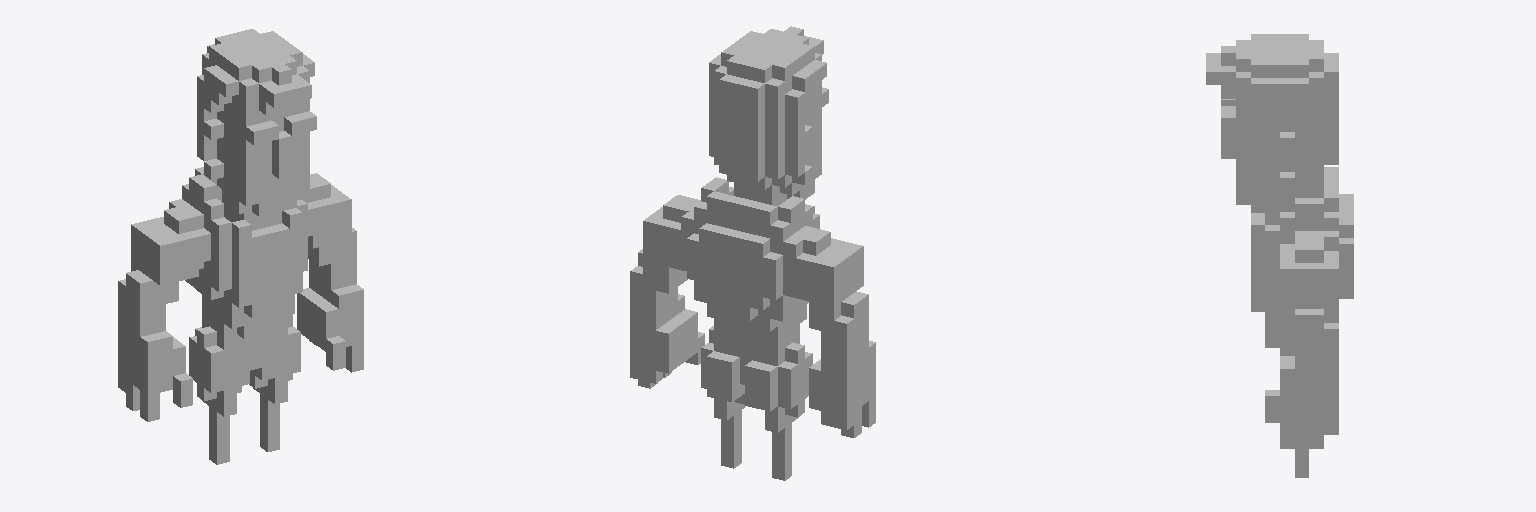
The model's file is knight.obj.
3 renders of one model, left to right at view 1: azimuth 30°, elevation 25°; view 2: azimuth 150°, elevation 25°; view 3: azimuth 270°, elevation 25°, orthographic.
Visible parts, largest first — view 1: object 1; view 2: object 1; view 3: object 1.
Part boxes in pixels (left/top/right/bottom): object 1: left=118, top=29, right=363, bottom=464; object 1: left=630, top=26, right=875, bottom=480; object 1: left=1206, top=34, right=1353, bottom=477.
Size of the model in its own units: 1.7 by 3.1 by 1.